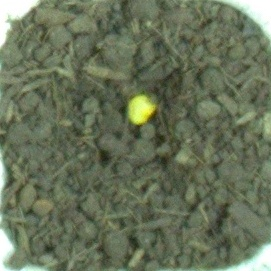pepper seed: (47, 31, 206, 157)
